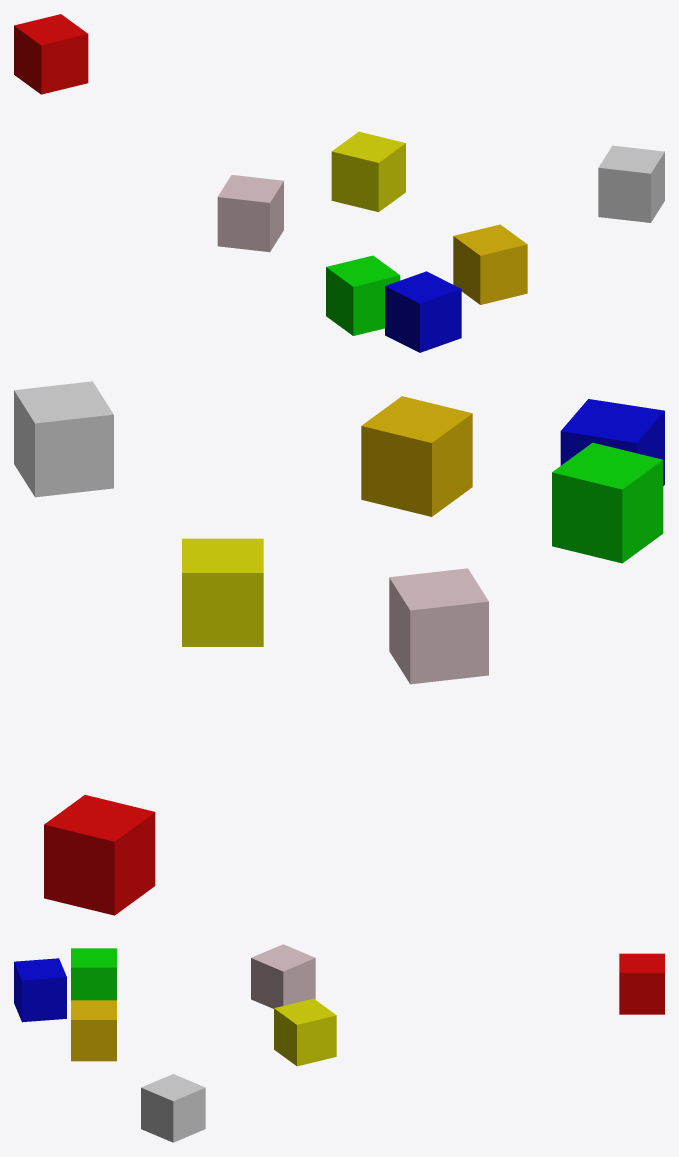
The model's file is 52_step7_digital_twin.glb.
3 renders of one model, top to bottom at view 1: azimuth 30°, elevation 25°; view 2: azimuth 150°, elevation 25°; view 3: azimuth 270°, elevation 25°, orthographic. The views are drawn at different scales.
Visible parts, largest first — view 1: Blue_Dice_0, Yellow_Dice_0, Red_Dice_0, Orange_Dice_0, White_Dice_0, Pink_Dice_0, Green_Dice_0; view 2: Orange_Dice_0, Red_Dice_0, Green_Dice_0, White_Dice_0, Pink_Dice_0, Yellow_Dice_0, Blue_Dice_0; view 3: White_Dice_0, Yellow_Dice_0, Pink_Dice_0, Blue_Dice_0, Orange_Dice_0, Red_Dice_0, Green_Dice_0.
Boxes of the visible parts, x1=… form: Blue_Dice_0: x1=385, y1=271, x2=461, y2=352; Yellow_Dice_0: x1=331, y1=131, x2=405, y2=212; Red_Dice_0: x1=14, y1=14, x2=88, y2=94; Orange_Dice_0: x1=453, y1=224, x2=527, y2=304; White_Dice_0: x1=598, y1=145, x2=664, y2=222; Pink_Dice_0: x1=217, y1=175, x2=283, y2=252; Green_Dice_0: x1=326, y1=255, x2=400, y2=335; Orange_Dice_0: x1=361, y1=396, x2=472, y2=516; Red_Dice_0: x1=44, y1=795, x2=155, y2=915; Green_Dice_0: x1=552, y1=442, x2=663, y2=563; White_Dice_0: x1=14, y1=381, x2=113, y2=497; Pink_Dice_0: x1=389, y1=568, x2=488, y2=684; Yellow_Dice_0: x1=182, y1=538, x2=263, y2=646; Blue_Dice_0: x1=560, y1=399, x2=664, y2=485; White_Dice_0: x1=141, y1=1074, x2=205, y2=1142; Yellow_Dice_0: x1=274, y1=998, x2=336, y2=1066; Pink_Dice_0: x1=251, y1=944, x2=315, y2=1008; Blue_Dice_0: x1=14, y1=958, x2=66, y2=1022; Orange_Dice_0: x1=71, y1=1000, x2=116, y2=1061; Red_Dice_0: x1=619, y1=953, x2=664, y2=1014; Green_Dice_0: x1=71, y1=948, x2=116, y2=1000.
Size of the model in its own units: 48.69 by 6 by 85.28.
